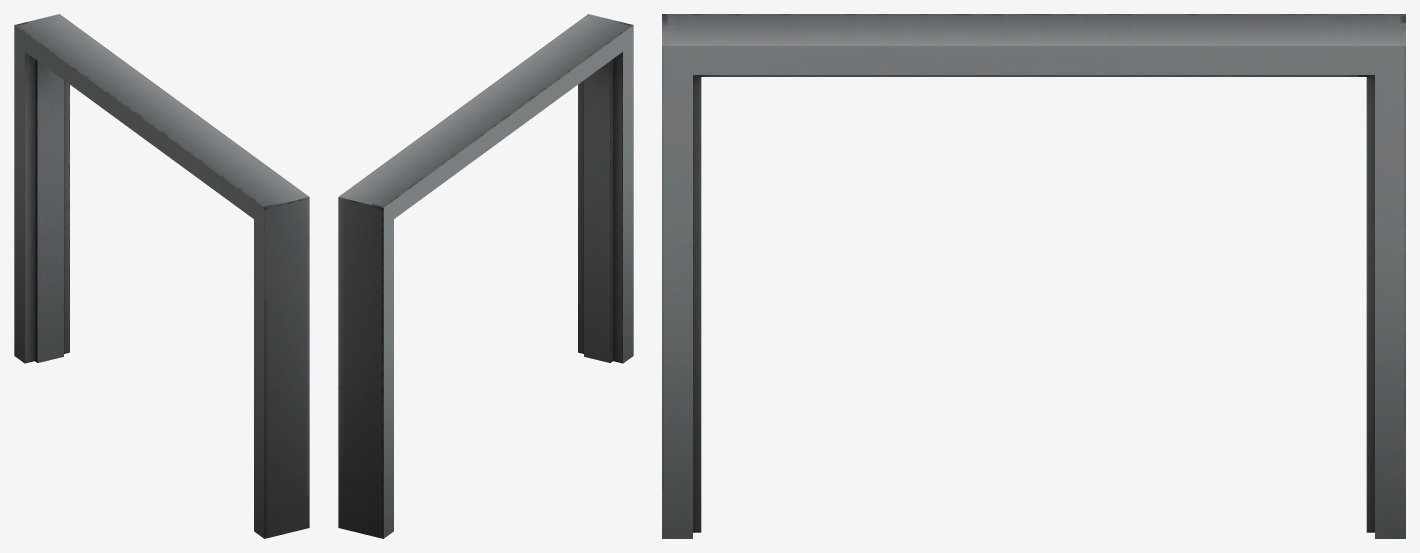
3 views of the same model, side by side, from view 1: azimuth 30°, elevation 25°; view 2: azimuth 150°, elevation 25°; view 3: azimuth 270°, elevation 25° (orthographic). The views are drawn at different scales.
Visible parts, largest first — view 1: body0_model0_lod0_mesh0; view 2: body0_model0_lod0_mesh0; view 3: body0_model0_lod0_mesh0.
Part boxes in pixels (left/top/right/bottom): body0_model0_lod0_mesh0: left=14, top=14, right=309, bottom=538; body0_model0_lod0_mesh0: left=338, top=14, right=633, bottom=538; body0_model0_lod0_mesh0: left=662, top=14, right=1405, bottom=538.
Size of the model in its own units: 20.02 by 140 by 192.
1 material, 1 textured.
